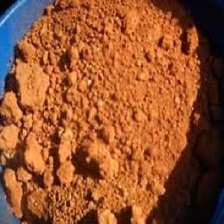clay_soil: (11, 22, 218, 202)
